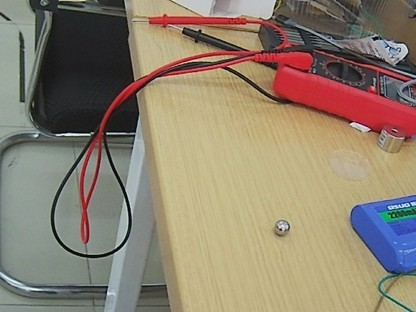ironball: (268, 213, 292, 238)
